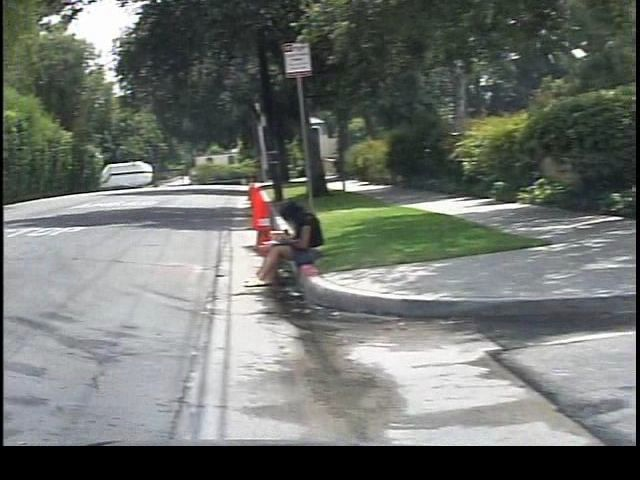person: (235, 195, 324, 289)
